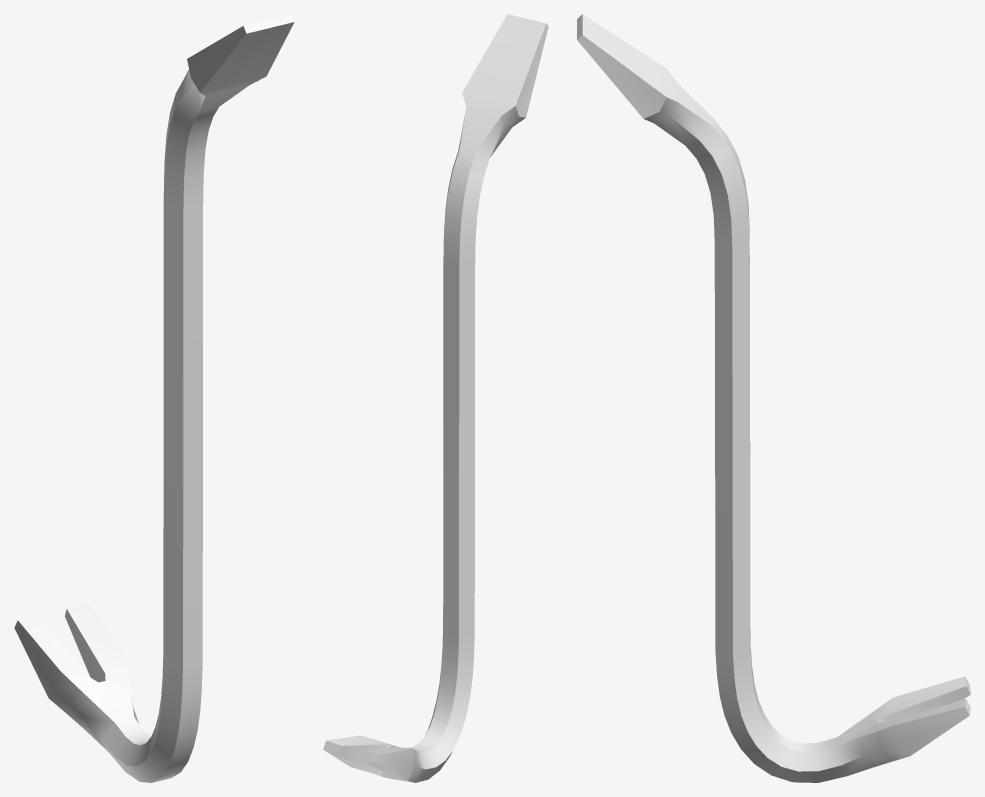
The model's file is Tool_CrowBar.fbx.
3 renders of one model, left to right at view 1: azimuth 30°, elevation 25°; view 2: azimuth 150°, elevation 25°; view 3: azimuth 270°, elevation 25°, orthographic. The views are drawn at different scales.
Visible parts, largest first — view 1: Tool_CrowBar; view 2: Tool_CrowBar; view 3: Tool_CrowBar.
Part boxes in pixels (bbox=[...]): Tool_CrowBar: bbox=[14, 14, 294, 782]; Tool_CrowBar: bbox=[323, 14, 548, 782]; Tool_CrowBar: bbox=[577, 14, 970, 782].
Bounding box in the file's own units: 0.0364 × 0.4113 × 0.1947.
